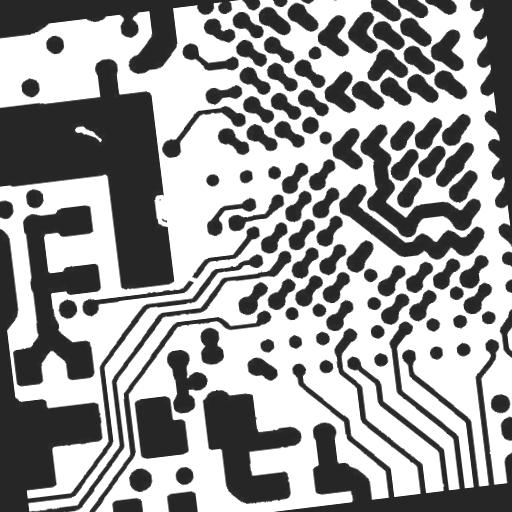copper: (197, 164, 228, 194)
mousebite: (146, 186, 180, 236)
open: (177, 265, 206, 292)
pin-hole: (66, 116, 110, 154)
